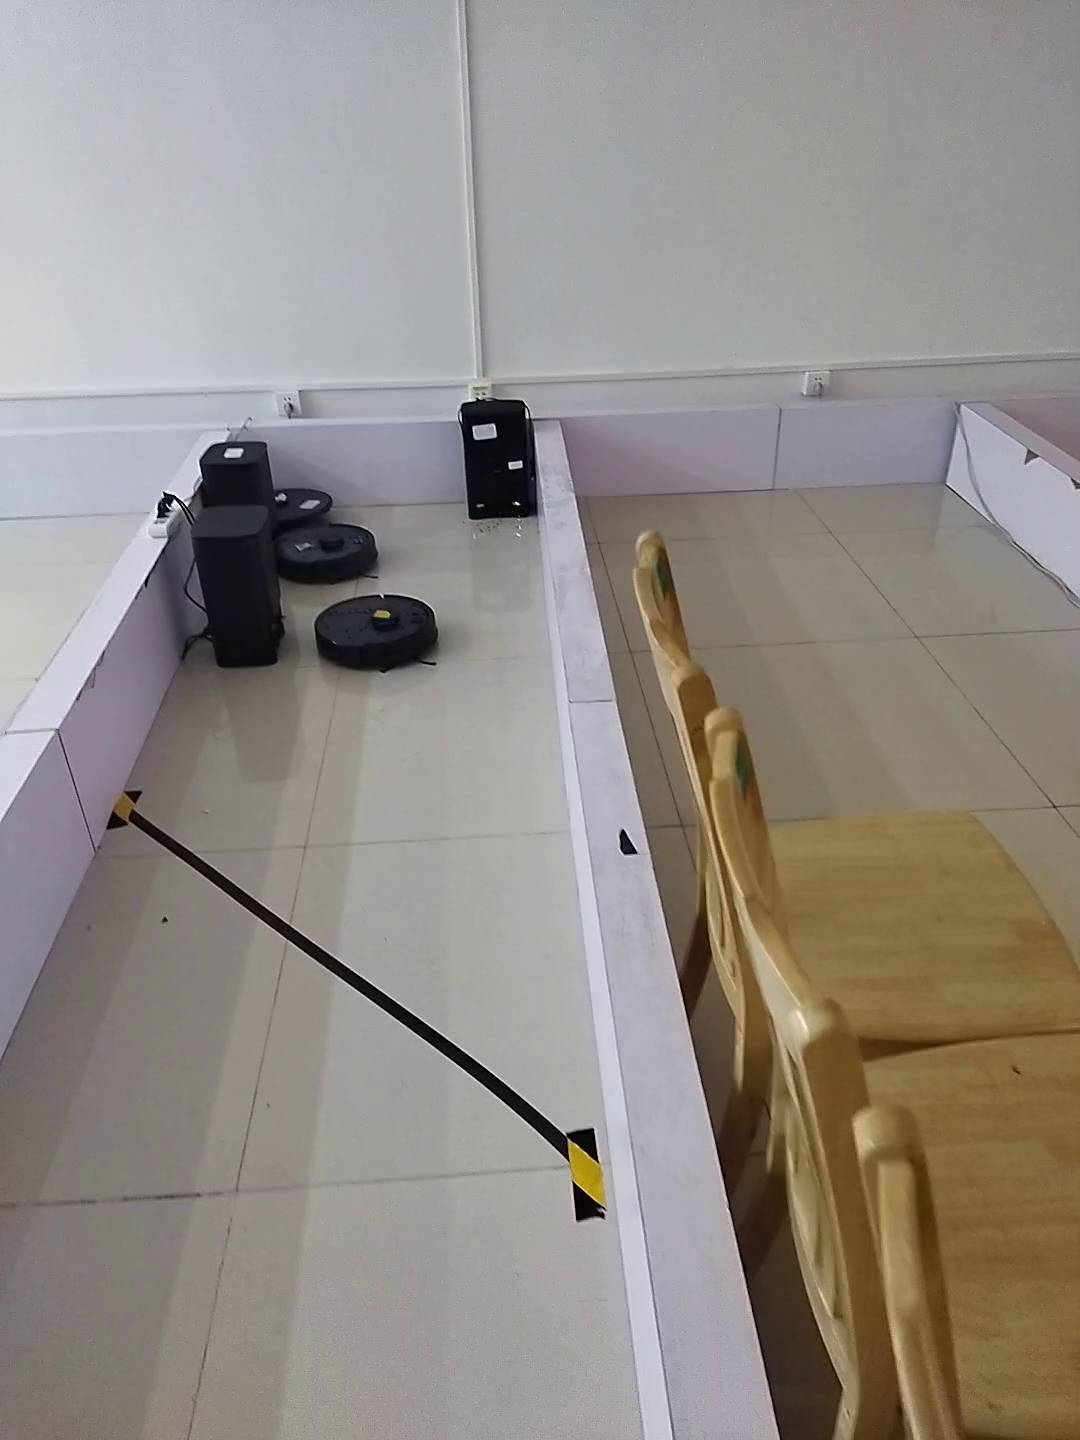dust collecting barrel: (192, 505, 282, 668), (459, 399, 537, 522)
